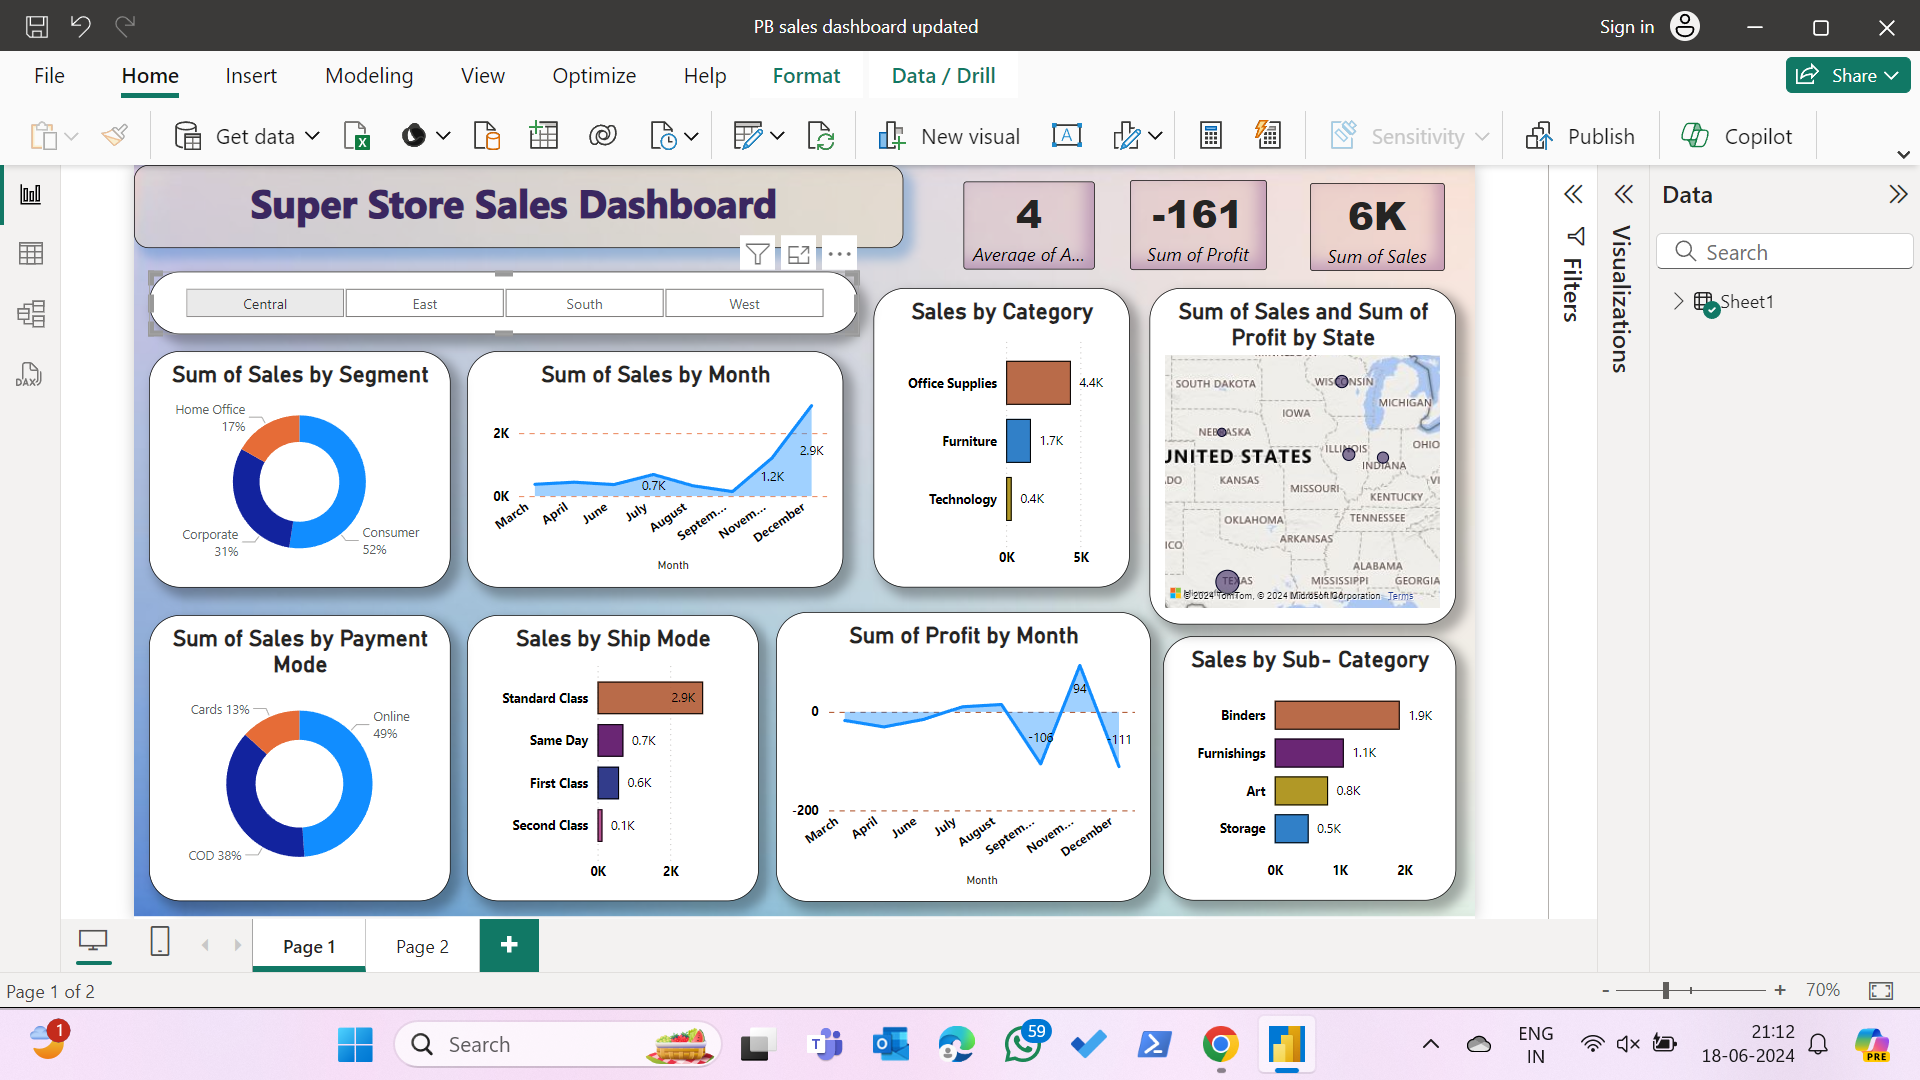

This screenshot's page, from the dashboard's own definition file:
{"tool":"powerbi","page":{"name":"Page 1","canvas":[1280,720],"ordinal":0},"visuals":[{"type":"clusteredBarChart","title":"Sales by Category","fields":{"Category":["Sheet1.Category"],"Y":["Sheet1.Sales"]},"box":[706.2,117.7,245,286.3],"z":0},{"type":"clusteredBarChart","title":"Sales by Sub- Category","fields":{"Category":["Sheet1.Sub-Category"],"Y":["Sheet1.Sales"]},"box":[983,450.1,279.9,252.9],"z":1000},{"type":"clusteredBarChart","title":"Sales by Ship Mode ","fields":{"Y":["Sheet1.Sales"],"Category":["Sheet1.Ship Mode"]},"box":[318.1,429.5,278.4,273.6],"z":2000},{"type":"stackedAreaChart","fields":{"Category":["Sheet1.Order Date.Variation.Date Hierarchy.Month"],"Y":["Sheet1.Sales"]},"box":[318.1,178.1,359.5,225.9],"z":3000},{"type":"stackedAreaChart","fields":{"Category":["Sheet1.Order Date.Variation.Date Hierarchy.Month"],"Y":["Sheet1.Profit"]},"box":[612.4,426.3,357.9,276.8],"z":4000},{"type":"map","fields":{"Category":["Sheet1.State"],"Size":["Sheet1.Sales"]},"box":[970.3,117.7,292.7,321.3],"z":5000},{"type":"donutChart","fields":{"Category":["Sheet1.Segment"],"Y":["Sheet1.Sales"]},"box":[14.3,178.1,287.9,225.9],"z":6000},{"type":"slicer","fields":{"Values":["Sheet1.Region"]},"box":[14.3,101.7,677.5,60.2],"z":7000},{"type":"textbox","box":[0,0,734.9,79.5],"z":8000},{"type":"card","fields":{"Values":["Sheet1.Sales"]},"box":[1123,17.5,128.8,84.3],"z":9000},{"type":"card","fields":{"Values":["Sheet1.Profit"]},"box":[951.2,14.3,130.4,85.9],"z":10000},{"type":"donutChart","fields":{"Category":["Sheet1.Payment Mode"],"Y":["Sheet1.Sales"]},"box":[14.3,429.5,287.9,273.6],"z":12000},{"type":"card","fields":{"Values":["Sheet1.AvgDelivery"]},"box":[792.1,15.9,125.7,84.3],"z":13000}]}

Visuals, with their boxes on the page's 1280x720 design canvas (x1, y1, x2, y2). These are canvas units, not pixel positions in the 1920x1080 screenshot, which may show the page scaled, cropped or inside an application window:
"Sales by Category" clusteredBarChart: box=[706, 118, 951, 404]
"Sales by Sub- Category" clusteredBarChart: box=[983, 450, 1263, 703]
"Sales by Ship Mode " clusteredBarChart: box=[318, 430, 596, 703]
stackedAreaChart - Sheet1.Order Date.Variation.Date Hierarchy.Month x Sheet1.Sales: box=[318, 178, 678, 404]
stackedAreaChart - Sheet1.Order Date.Variation.Date Hierarchy.Month x Sheet1.Profit: box=[612, 426, 970, 703]
map - Sheet1.State x Sheet1.Sales: box=[970, 118, 1263, 439]
donutChart - Sheet1.Segment x Sheet1.Sales: box=[14, 178, 302, 404]
slicer - Sheet1.Region: box=[14, 102, 692, 162]
textbox: box=[0, 0, 735, 80]
card - Sheet1.Sales: box=[1123, 18, 1252, 102]
card - Sheet1.Profit: box=[951, 14, 1082, 100]
donutChart - Sheet1.Payment Mode x Sheet1.Sales: box=[14, 430, 302, 703]
card - Sheet1.AvgDelivery: box=[792, 16, 918, 100]
